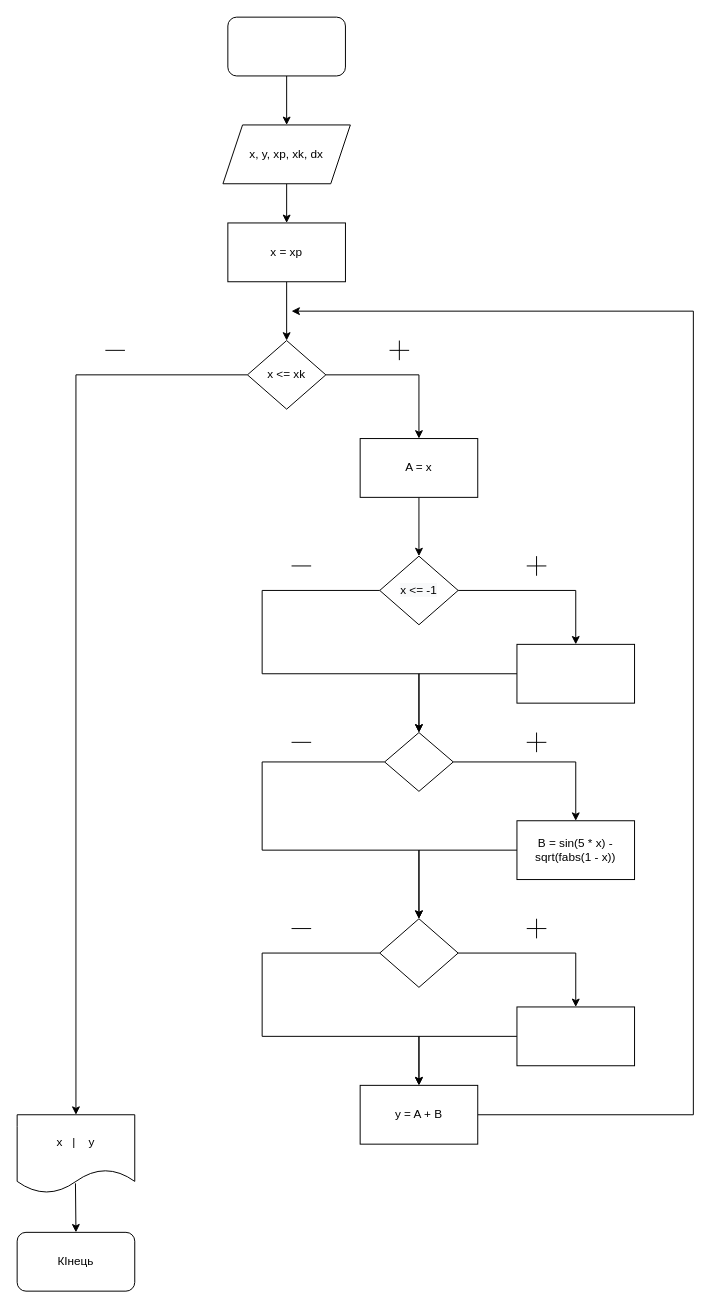
Image size: 718x1308. Some labels were removed from this diagram. The centre of each missing label's shape, as x and y in pixels:
B = sqrt(pow((2 * x - 3), 3) - tan(x));: the point at 575,1036
B=log10(fabs(cos(5 * x))) + exp((1 / x) + x): the point at 575,673
x >= 2 / 5: the point at 418,952
x >= 2. / 5: the point at 418,761
Початок: the point at 286,46
